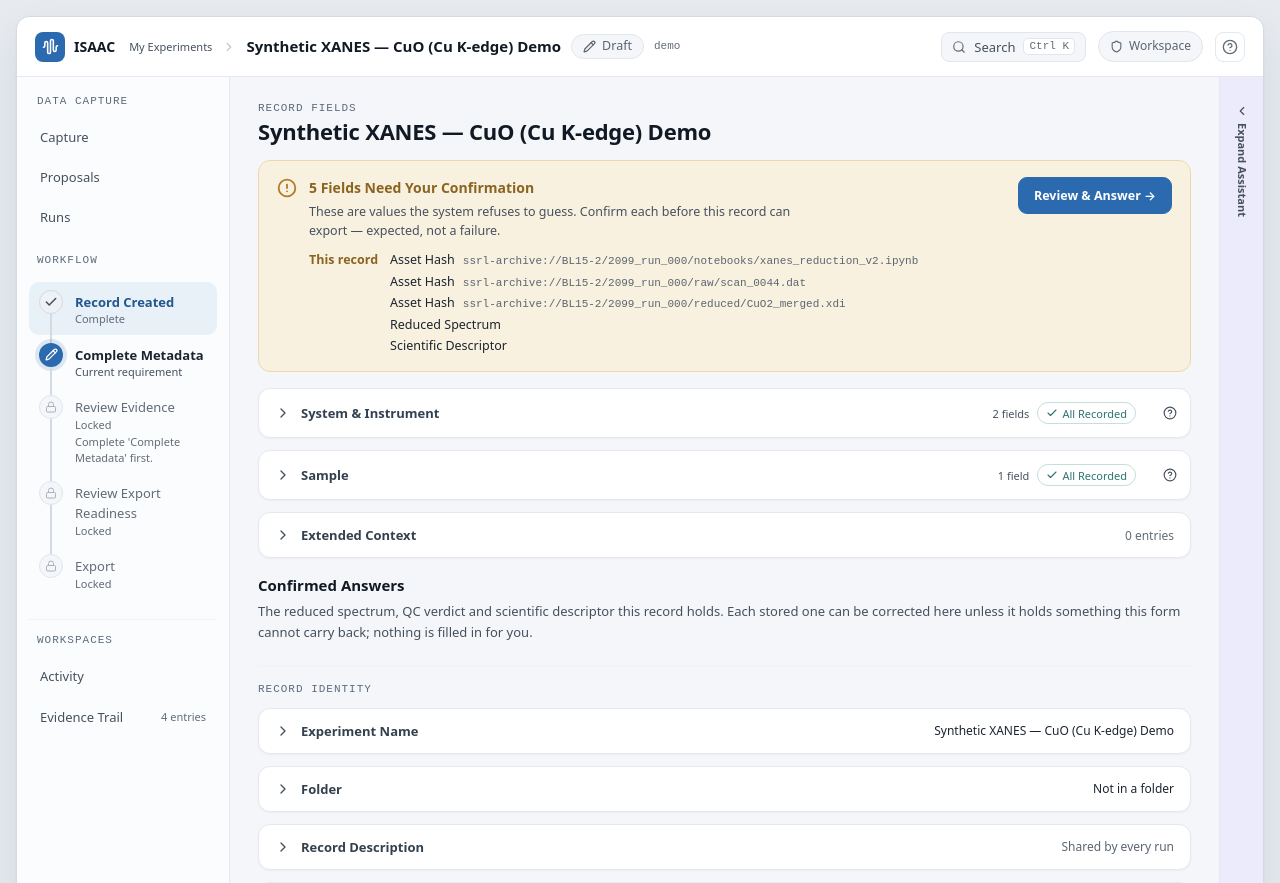
Test: S3 · Review Record (live bundle) › the right rail is the assistant only — no evidence panel, no truth/advisory divider
The width and height of the screenshot is (1280, 883).
Expected: the text "5 Fields Need Your Confirmation" is shown, [309, 178, 534, 197]
Step 1. Click the button with class "fg-header" that starts with "System & Instrument" → (370, 413), box [259, 389, 1152, 437]
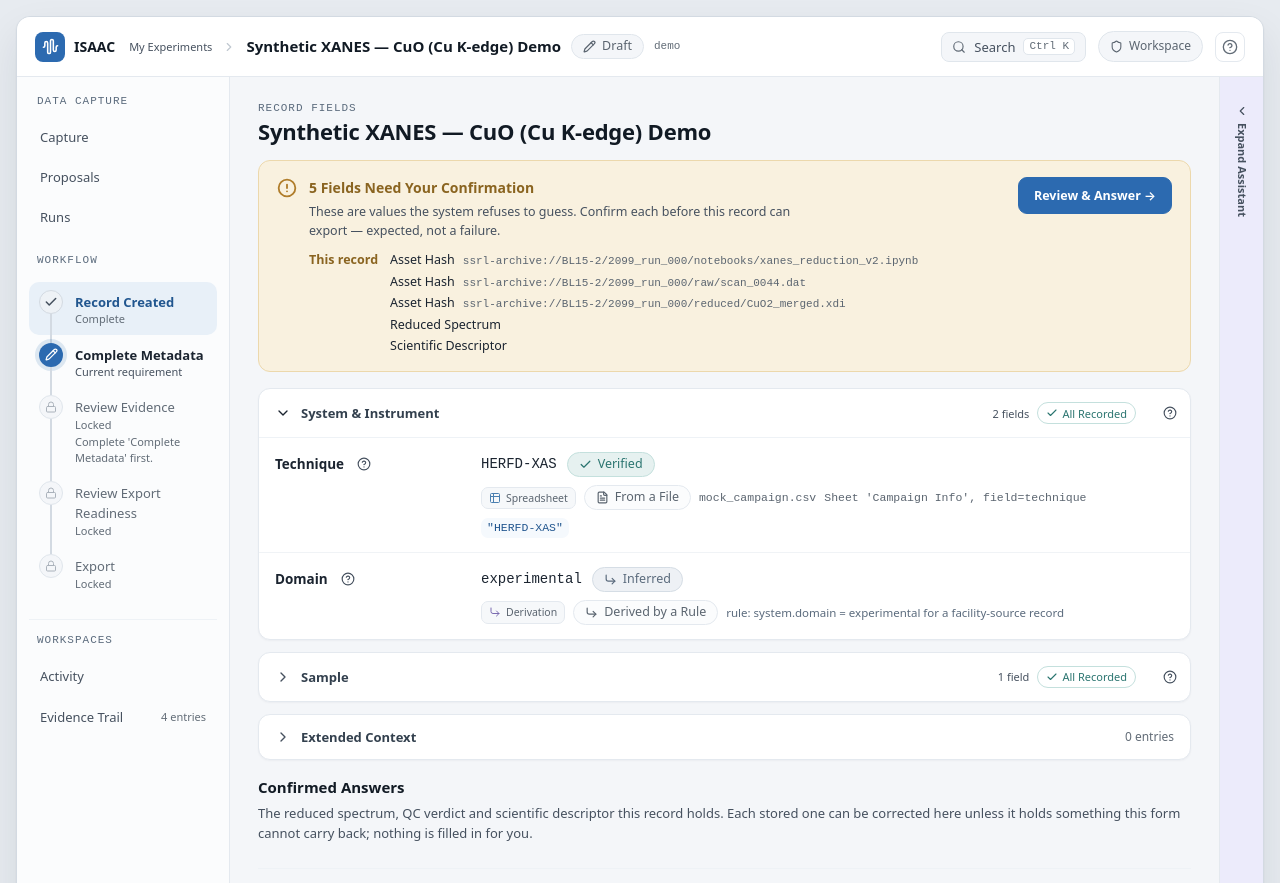
Result: the element with class "field-evidence" that starts with "Spreadsheet" is shown at [481, 485, 1174, 538]
